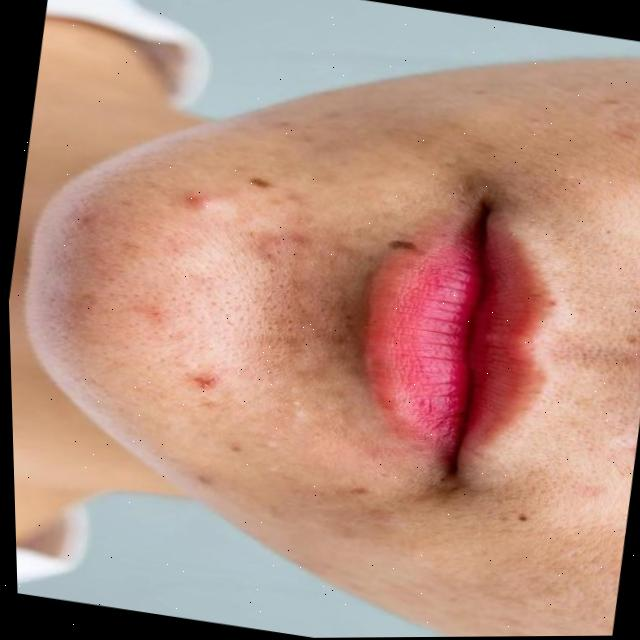Acne: (34, 166, 362, 513)
